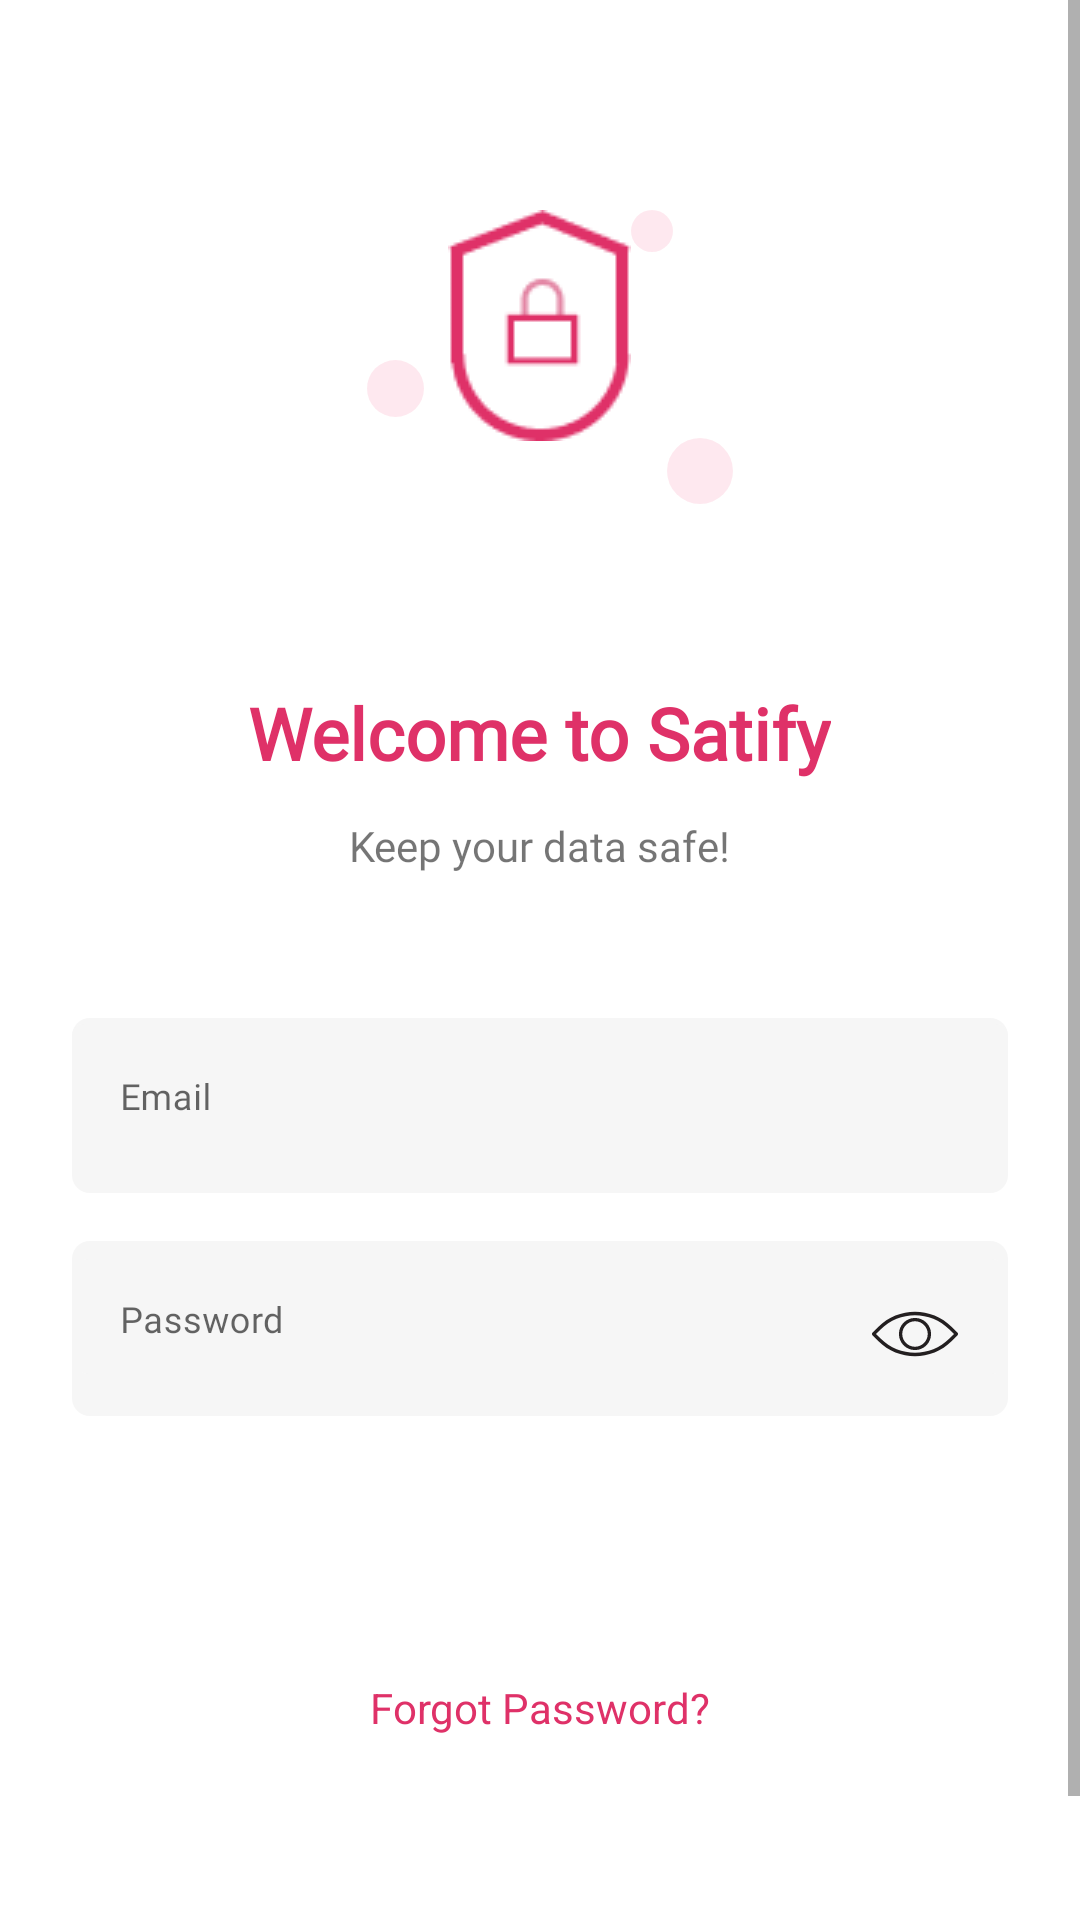

Screen size 1080px×1920px. Icon name, then its center in pixels as point (x, y):
eye: point (915, 1328)
lock: point (539, 325)
